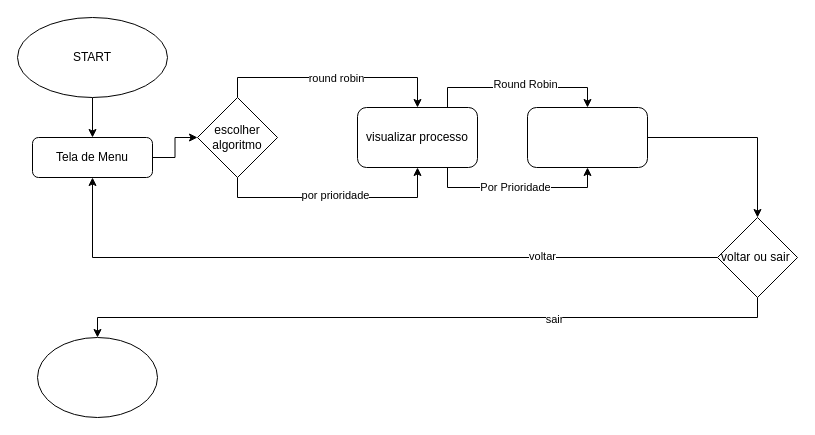
The diagram is 815 pixels wide and 435 high, and some of its shapes have lost their labels. The shapes that lost their labels are listed below. From the top down, each one's box as (x1, y1, x2, y2) in pixels, then its label:
(526, 106, 648, 168): resultado de processo
(36, 336, 158, 418): ENCERRAR
